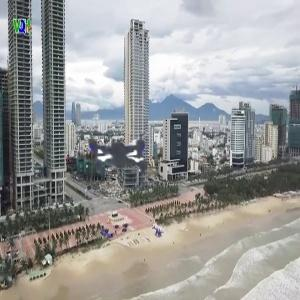drone: (43, 74, 196, 227)
